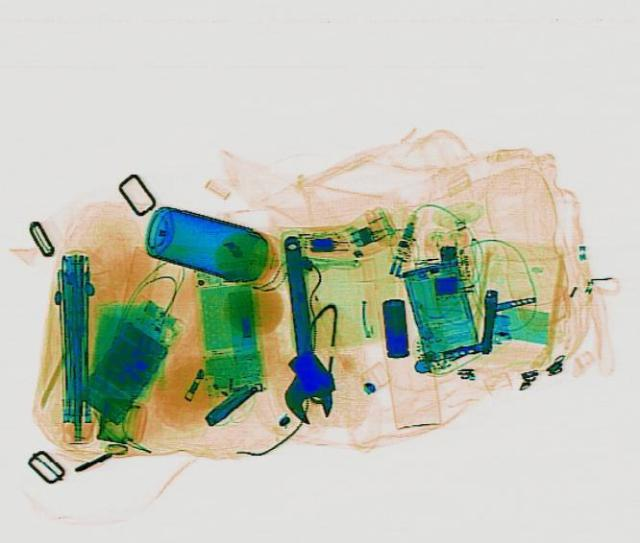Wrench: (260, 233, 340, 424)
